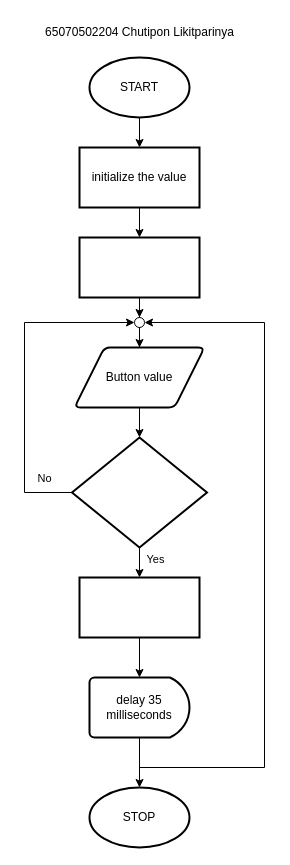
This 290x865 diagram has some shape labels left out. The centre of each missing label's shape, as x and y in pixels:
Button value == 1: [139,492]
Factorial of the pressed times: [139,607]
setup the pinMode and the Serial.begin: [139,267]
